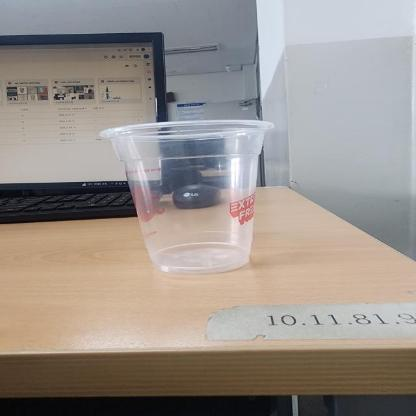Plastic Cup: (102, 118, 274, 276)
